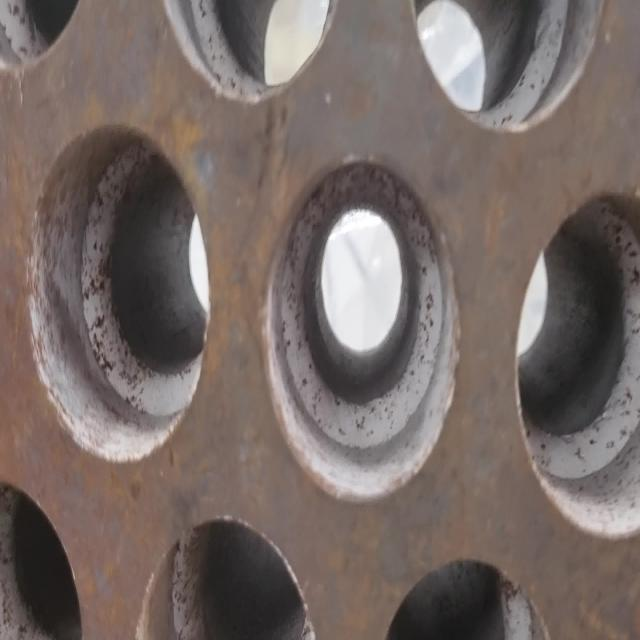Hole: (262, 160, 460, 504), (27, 120, 210, 463), (516, 185, 638, 541), (406, 0, 610, 134), (163, 0, 336, 100)
